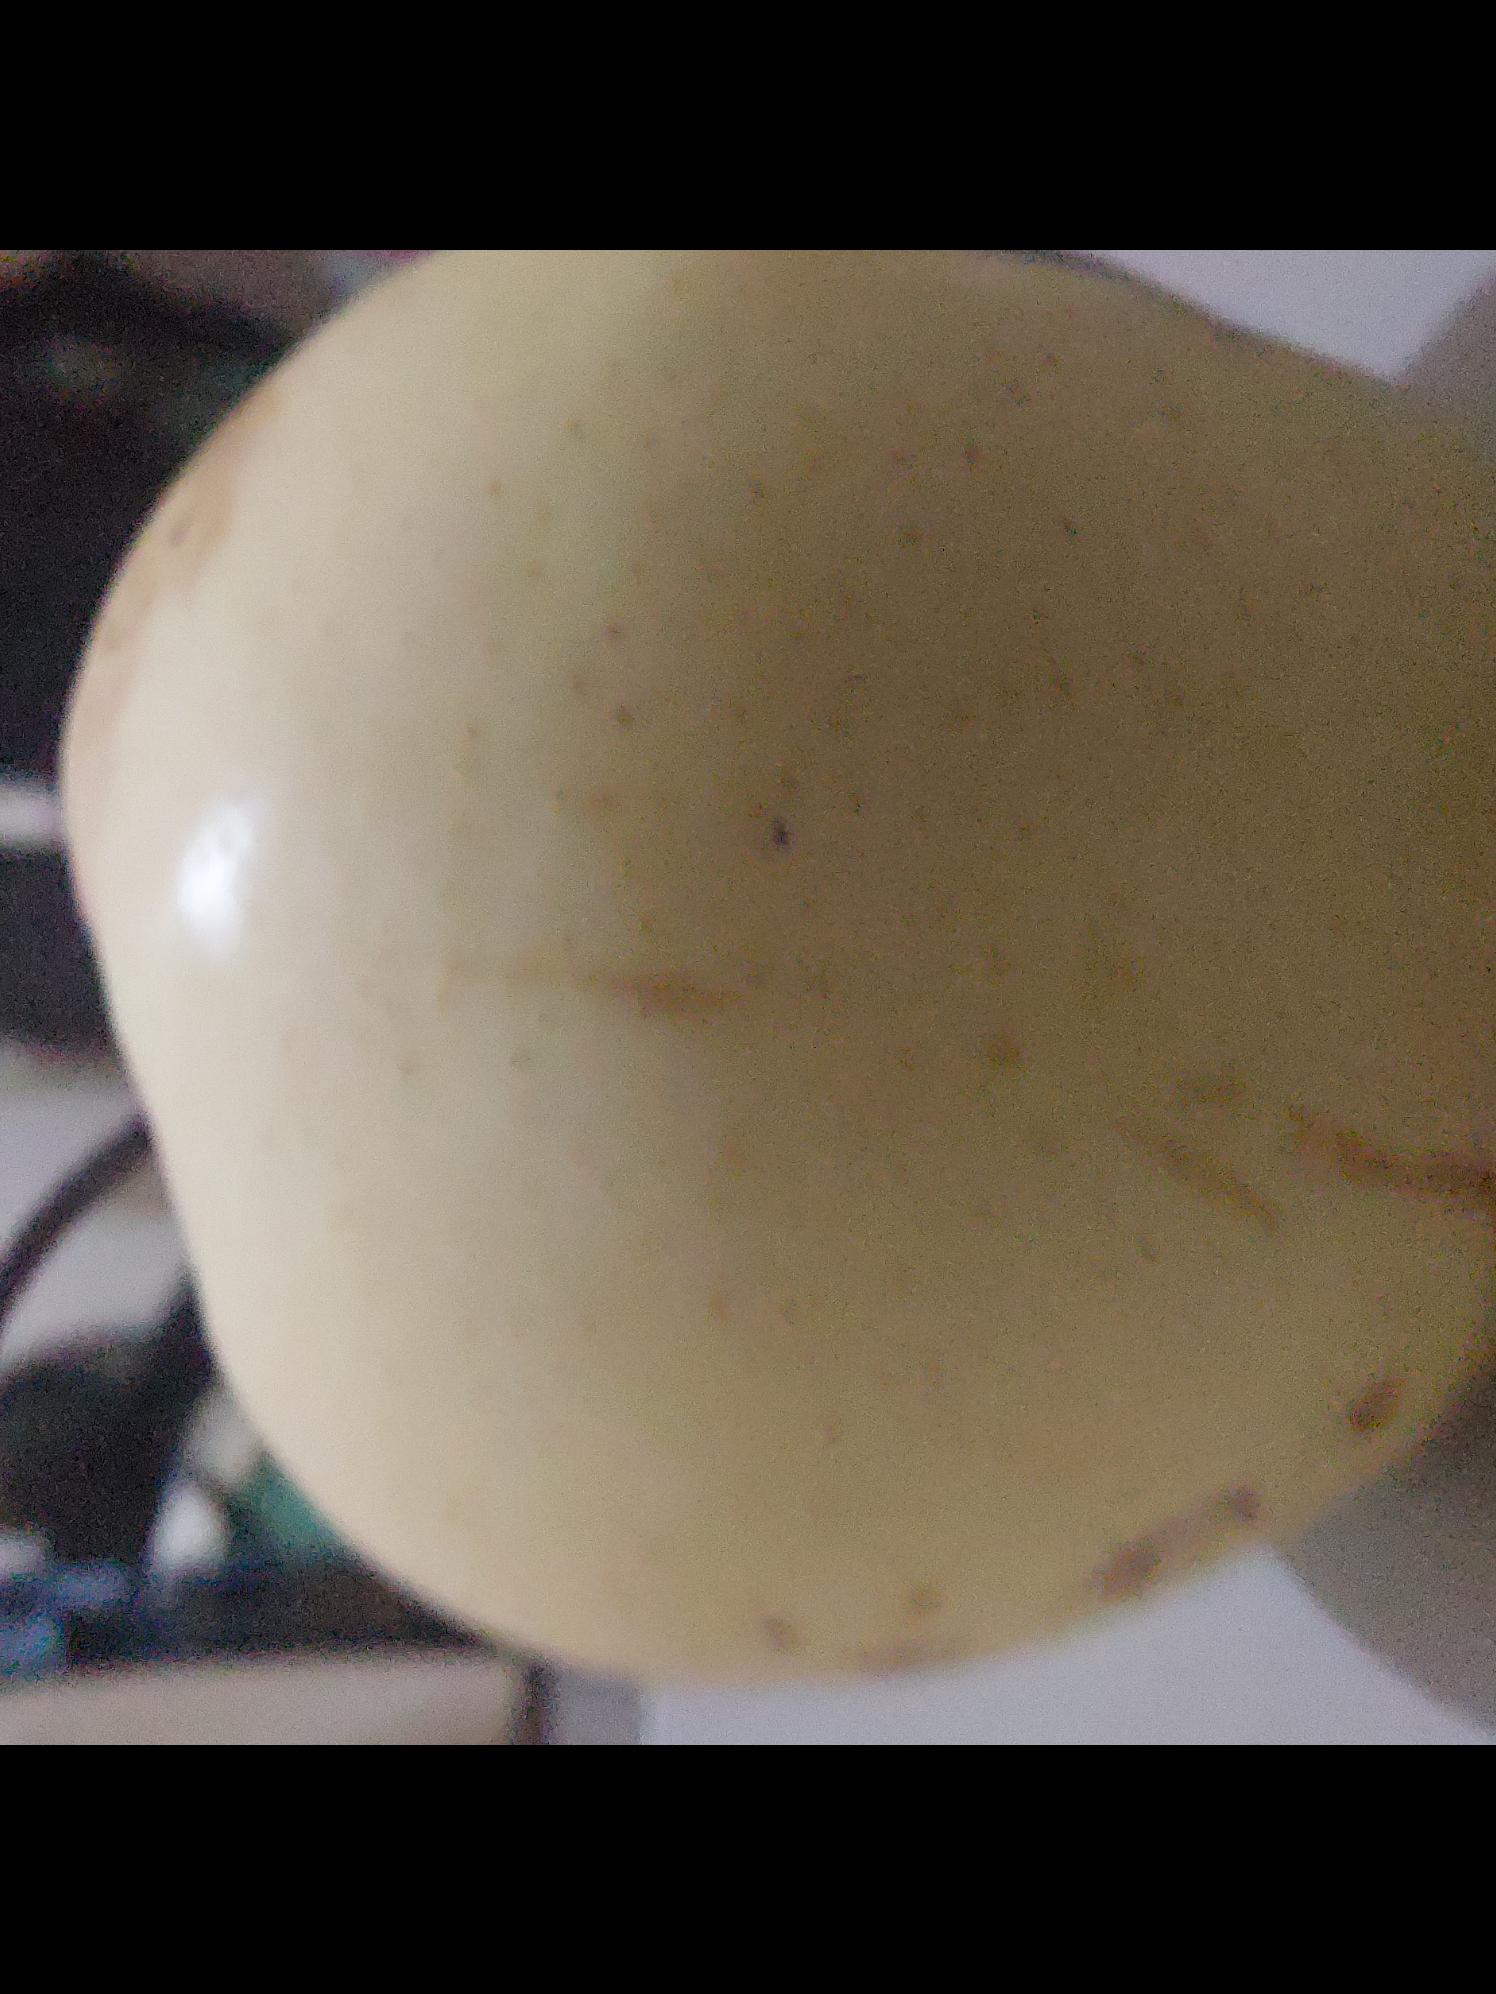Bad Pear: (60, 248, 1496, 1677)
